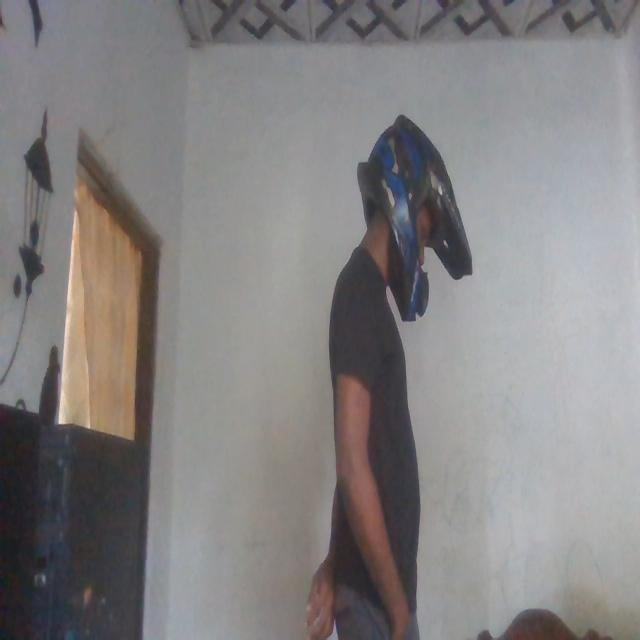Helmet_Wearer: (352, 107, 469, 343)
Person: (317, 106, 464, 640)
